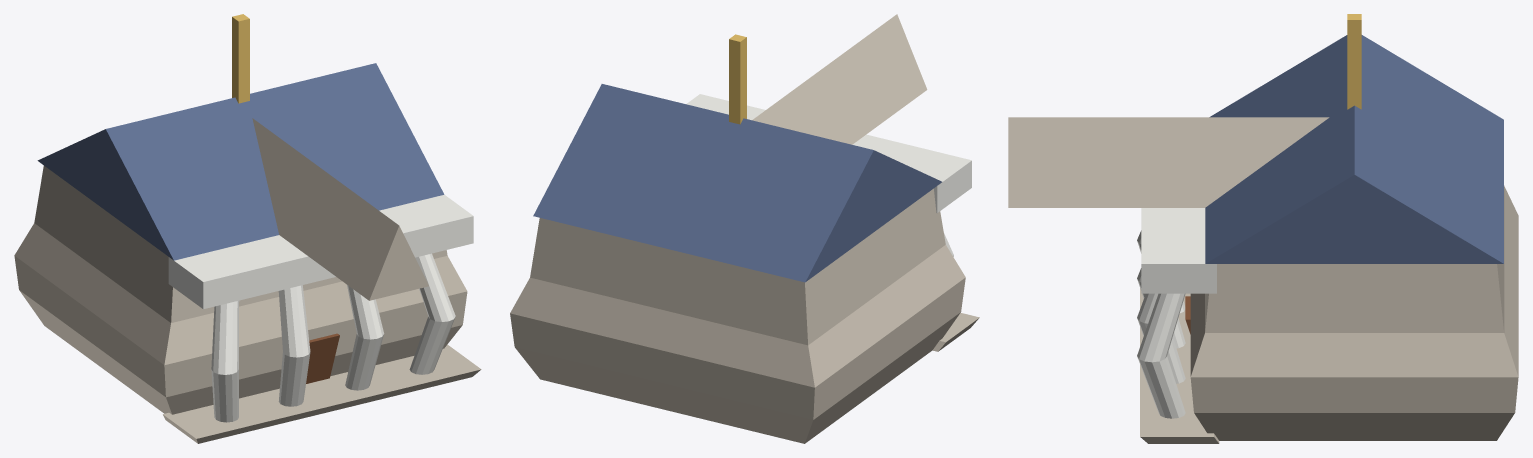
File: bank.glb
The picture shows the model from 3 angles, left to right: view 1: azimuth 30°, elevation 25°; view 2: azimuth 150°, elevation 25°; view 3: azimuth 270°, elevation 25°; orthographic projection. The views are drawn at different scales.
Parts seen in each view (by area): view 1: bank_stone, bank_roof_slate, bank_offwhite, bank_gold, bank_door; view 2: bank_stone, bank_roof_slate, bank_offwhite, bank_gold; view 3: bank_stone, bank_roof_slate, bank_offwhite, bank_gold.
Boxes of the visible parts, left/top/right/bottom form: bank_stone: left=14, top=118, right=481, bottom=443; bank_roof_slate: left=37, top=63, right=444, bottom=260; bank_offwhite: left=168, top=194, right=473, bottom=422; bank_gold: left=232, top=14, right=249, bottom=103; bank_door: left=306, top=333, right=339, bottom=383; bank_stone: left=510, top=14, right=979, bottom=443; bank_roof_slate: left=533, top=84, right=941, bottom=282; bank_offwhite: left=686, top=94, right=971, bottom=256; bank_gold: left=729, top=34, right=746, bottom=124; bank_stone: left=1008, top=117, right=1518, bottom=443; bank_roof_slate: left=1205, top=35, right=1503, bottom=263; bank_offwhite: left=1137, top=208, right=1216, bottom=418; bank_gold: left=1347, top=14, right=1361, bottom=109.
Size of the model in its own units: 16.78 by 17.12 by 22.38.
